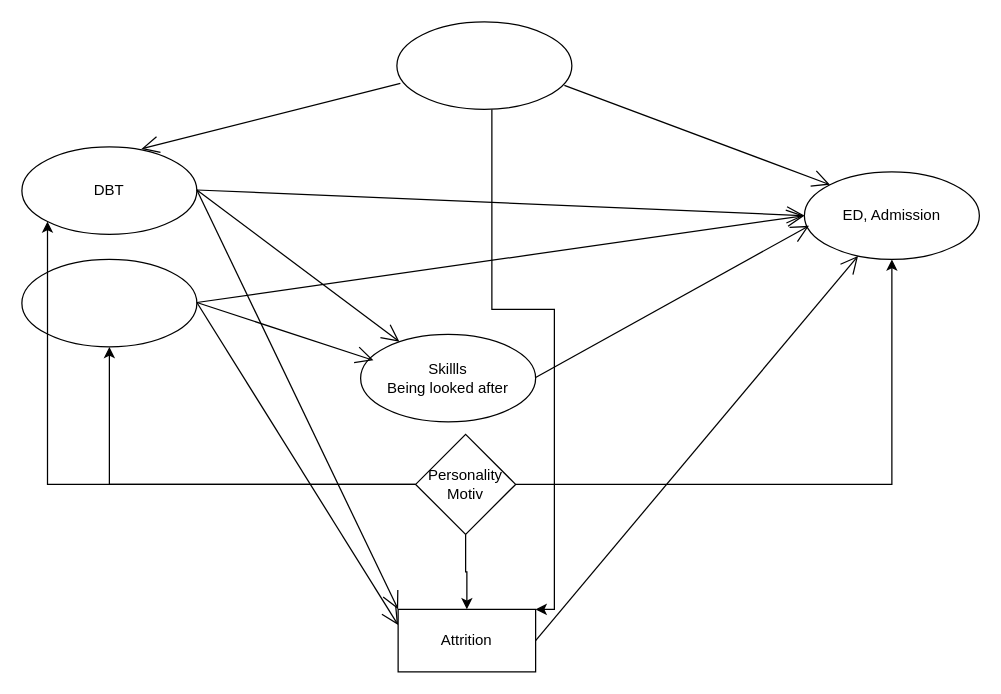
This 1001x694 diagram has some shape labels left out. Each missing label, with the centre of its shape:
"CMHC" belongs at pixel 109 302.
"SES" belongs at pixel 484 65.
